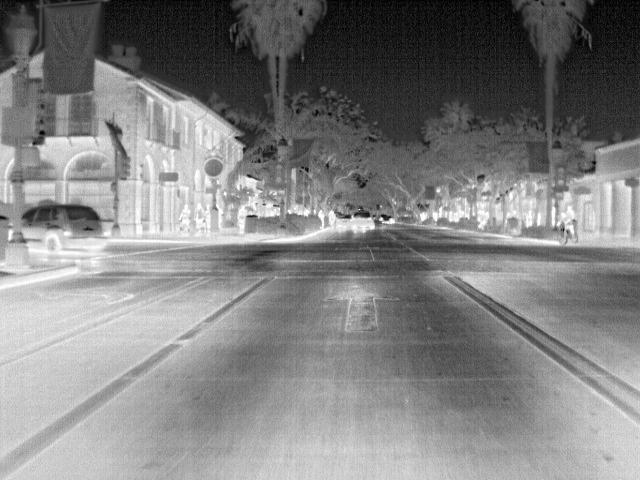car: (16, 203, 108, 254), (351, 208, 374, 233), (335, 214, 352, 232)
person: (178, 200, 194, 234), (560, 208, 577, 239), (194, 200, 207, 234), (235, 204, 248, 230)
